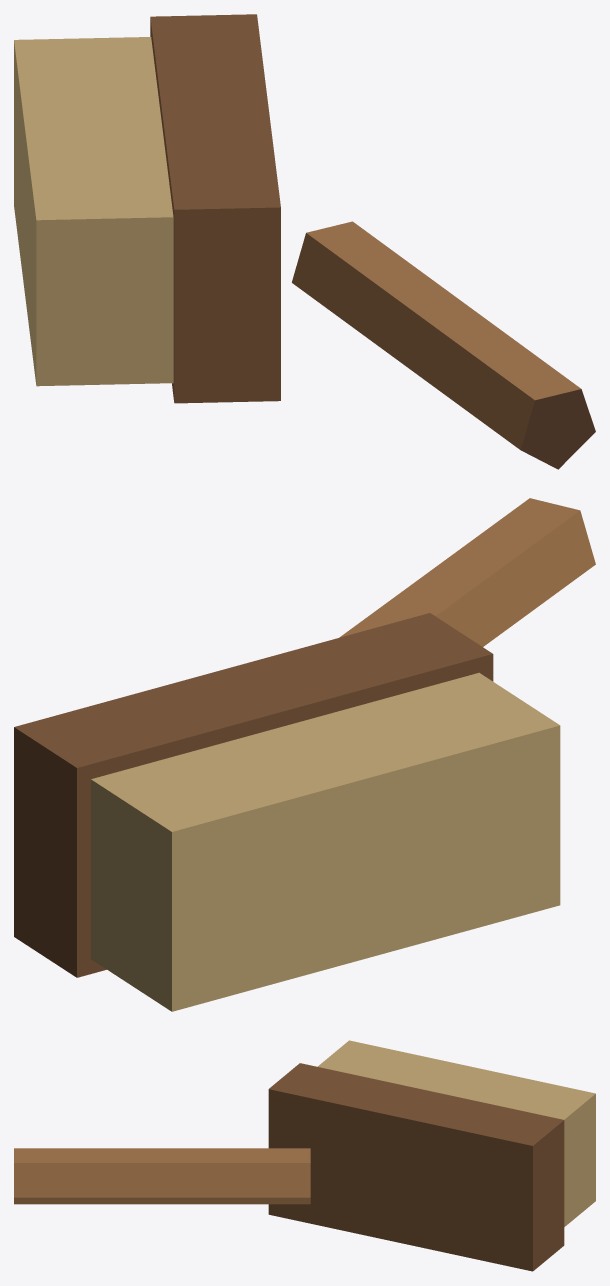
Rendered from prop_brush.glb.
3 views of the same model, one above another, from view 1: azimuth 30°, elevation 25°; view 2: azimuth 150°, elevation 25°; view 3: azimuth 270°, elevation 25° (orthographic). The views are drawn at different scales.
Parts seen in each view (by area): view 1: prop_brush; view 2: prop_brush; view 3: prop_brush.
Boxes of the visible parts, bbox=[...] form: prop_brush: bbox=[14, 14, 595, 469]; prop_brush: bbox=[14, 498, 595, 1011]; prop_brush: bbox=[14, 1040, 595, 1271].
Bounding box in the file's own units: 0.0548 × 0.028 × 0.1177.
Materials: 1 (1 with a texture image).
